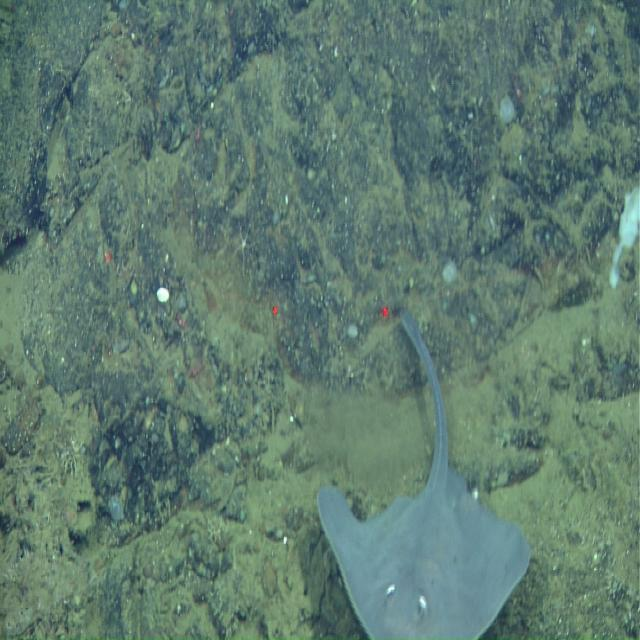Brittle Star: (226, 221, 260, 278)
Not Brittle Star: (308, 301, 536, 639), (433, 250, 467, 295), (494, 89, 520, 134), (102, 494, 126, 534)
